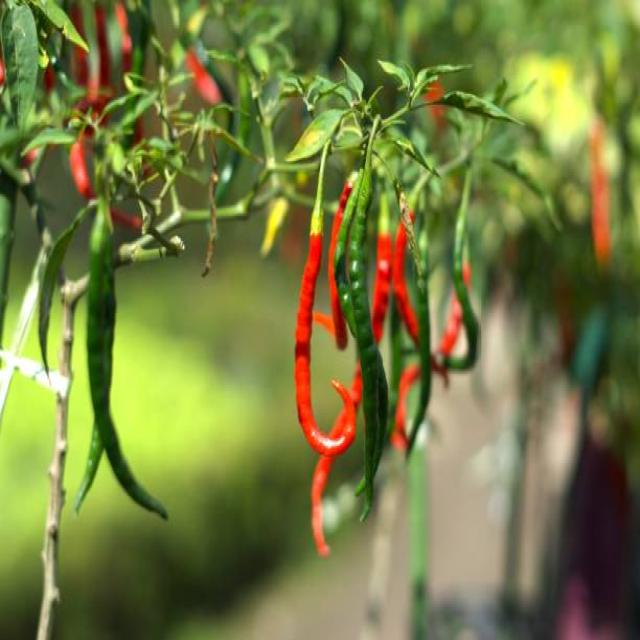Ripe: (297, 152, 358, 462)
Unripe: (350, 178, 388, 518)
